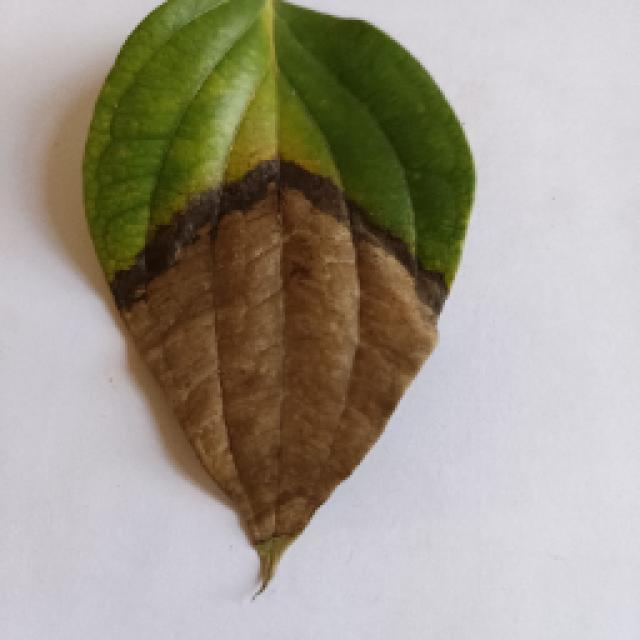footrot: (63, 15, 485, 600)
